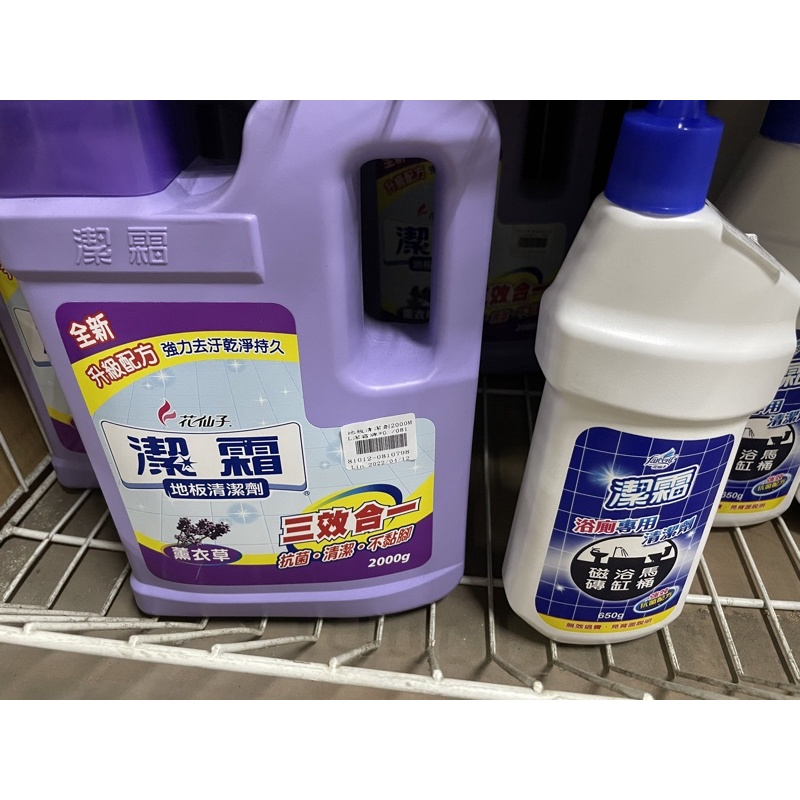cleaner: (1, 102, 469, 625), (495, 103, 800, 651), (709, 244, 800, 532), (2, 265, 107, 498)
